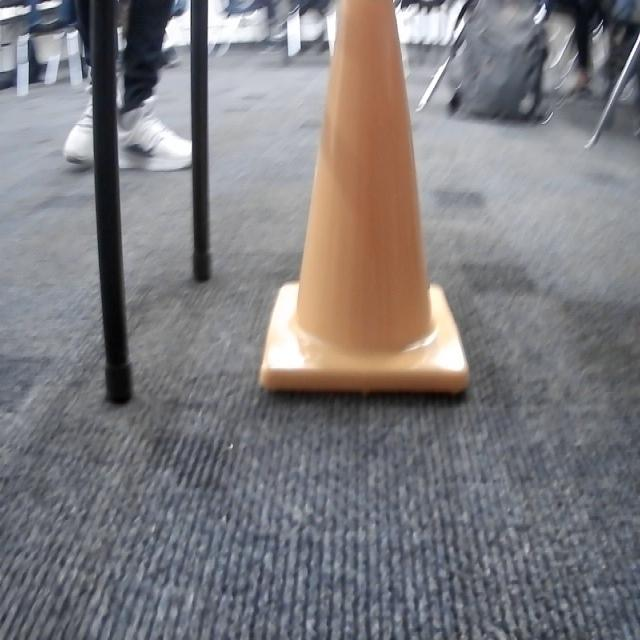cone: (257, 6, 472, 403)
